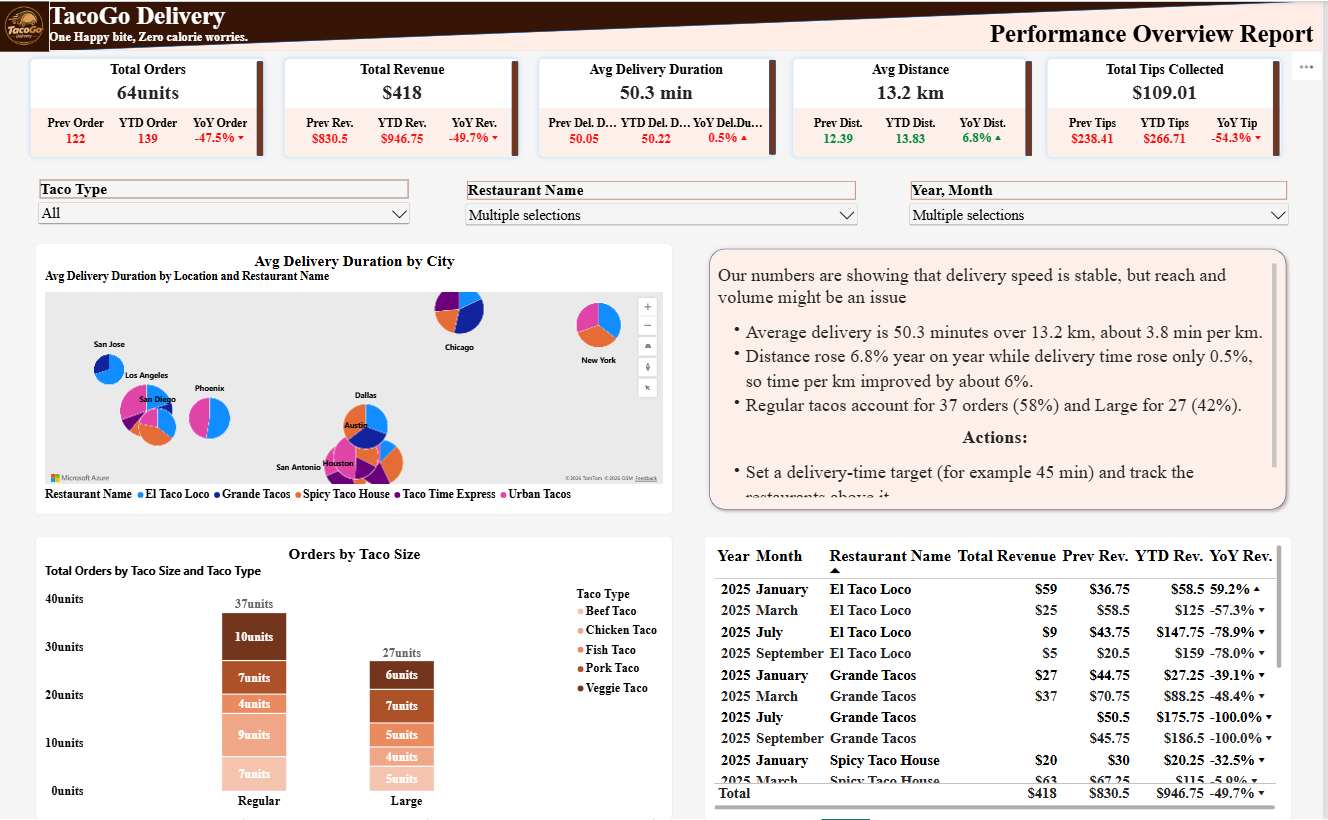

The page's visual inventory and layout, read from the dashboard file:
{"tool":"powerbi","page":{"name":"Performance Overview","canvas":[2298,1420],"ordinal":2},"visuals":[{"type":"image","box":[0,0,87.4,89.1],"z":0},{"type":"shape","box":[87.2,0,2208.9,87.2],"z":1000},{"type":"cardVisual","fields":{"Data":["Table 1 (FactOrders).Total Orders","Table 1 (FactOrders).Total Revenue","Table 1 (FactOrders).Avg Delivery Duration","Table 1 (FactOrders).Avg Distance","Table 1 (FactOrders).Total Tips Collected"]},"box":[43.4,88.9,2192.5,193],"z":2000},{"type":"textbox","box":[1247.6,32.2,1033.3,113.8],"z":3000},{"type":"shape","box":[87.4,0,2209.8,87.4],"z":4000},{"type":"textbox","box":[87.4,0,585.5,89.1],"z":5000},{"type":"azureMap","title":"Avg Delivery Duration by City","fields":{"Category":["Table 2 (DimRestaurant).Location"],"Series":["Table 2 (DimRestaurant).Restaurant Name"],"Size":["Table 1 (FactOrders).Avg Delivery Duration"]},"box":[62.9,420.7,1106,470.6],"z":6000},{"type":"columnChart","title":"Orders by Taco Size","fields":{"Category":["Table 3 (DimTaco).Taco Size"],"Series":["Table 3 (DimTaco).Taco Type"],"Y":["Table 1 (FactOrders).Total Orders"]},"box":[62.9,928.2,1106,492.3],"z":7000},{"type":"slicer","fields":{"Values":["Table 2 (DimRestaurant).Restaurant Name"]},"box":[804.6,312.3,689.6,88.9],"z":8000},{"type":"slicer","fields":{"Values":["Table 3 (DimTaco).Taco Type"]},"box":[62.9,310.1,654.9,91.1],"z":9000},{"type":"tableEx","fields":{"Values":["Dim_Date.Date.Variation.Date Hierarchy.Year","Dim_Date.Date.Variation.Date Hierarchy.Month","Table 2 (DimRestaurant).Restaurant Name","Table 1 (FactOrders).Total Revenue","Dim_Date.Prev Profit","Dim_Date.Revenue YTD","Dim_Date.YoY Revenue Change"]},"box":[1223.1,928.2,1019.2,492.3],"z":11000},{"type":"shape","box":[1223.1,420.7,1019.2,470.6],"z":12000},{"type":"textbox","box":[1247,455.4,969.4,405.5],"z":13000},{"type":"slicer","fields":{"Values":["Dim_Date.Date.Variation.Date Hierarchy.Year","Dim_Date.Date.Variation.Date Hierarchy.Month"]},"box":[1574.4,312.3,667.9,88.9],"z":14000},{"type":"shape","box":[446.7,104.1,12.1,165.1],"z":15000},{"type":"shape","box":[889.1,104.1,12.1,165.1],"z":16000},{"type":"shape","box":[1335.9,101.9,12.1,165.1],"z":17000},{"type":"shape","box":[1780.4,104.1,12.1,165.1],"z":18000},{"type":"shape","box":[2209.8,104.1,12.1,165.1],"z":19000}]}

Visuals, with their boxes in screenshot pixels (x1, y1, x2, y2), scaled from the page's 2298x1420 canvas onto the 1328x820 screenshot:
image: region(0, 0, 51, 51)
shape: region(50, 0, 1327, 50)
cardVisual - Table 1 (FactOrders).Total Orders x Table 1 (FactOrders).Total Revenue: region(25, 51, 1292, 163)
textbox: region(721, 19, 1318, 84)
shape: region(51, 0, 1327, 50)
textbox: region(51, 0, 389, 51)
"Avg Delivery Duration by City" azureMap: region(36, 243, 676, 515)
"Orders by Taco Size" columnChart: region(36, 536, 676, 819)
slicer - Table 2 (DimRestaurant).Restaurant Name: region(465, 180, 863, 232)
slicer - Table 3 (DimTaco).Taco Type: region(36, 179, 415, 232)
tableEx - Dim_Date.Date.Variation.Date Hierarchy.Year x Dim_Date.Date.Variation.Date Hierarchy.Month: region(707, 536, 1296, 819)
shape: region(707, 243, 1296, 515)
textbox: region(721, 263, 1281, 497)
slicer - Dim_Date.Date.Variation.Date Hierarchy.Year x Dim_Date.Date.Variation.Date Hierarchy.Month: region(910, 180, 1296, 232)
shape: region(258, 60, 265, 155)
shape: region(514, 60, 521, 155)
shape: region(772, 59, 779, 154)
shape: region(1029, 60, 1036, 155)
shape: region(1277, 60, 1284, 155)
